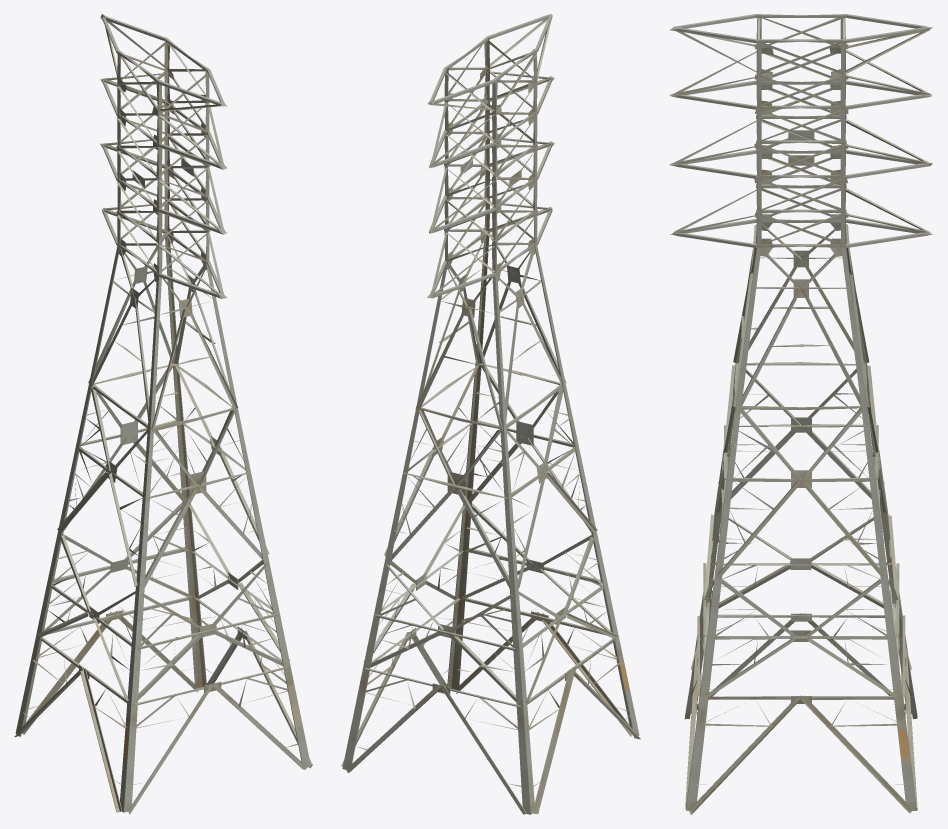
File: tower1.glb
The picture shows the model from 3 angles, left to right: view 1: azimuth 30°, elevation 25°; view 2: azimuth 150°, elevation 25°; view 3: azimuth 270°, elevation 25°; orthographic projection. The views are drawn at different scales.
Visible parts, largest first — view 1: defaultMaterial1; view 2: defaultMaterial1; view 3: defaultMaterial1.
Boxes of the visible parts, x1,y1,x2,y2 form: defaultMaterial1: [14, 14, 312, 814]; defaultMaterial1: [341, 14, 640, 814]; defaultMaterial1: [669, 14, 932, 814].
Size of the model in its own units: 0.5819 by 1.97 by 0.6376.
Materials: 1 (1 with a texture image).
